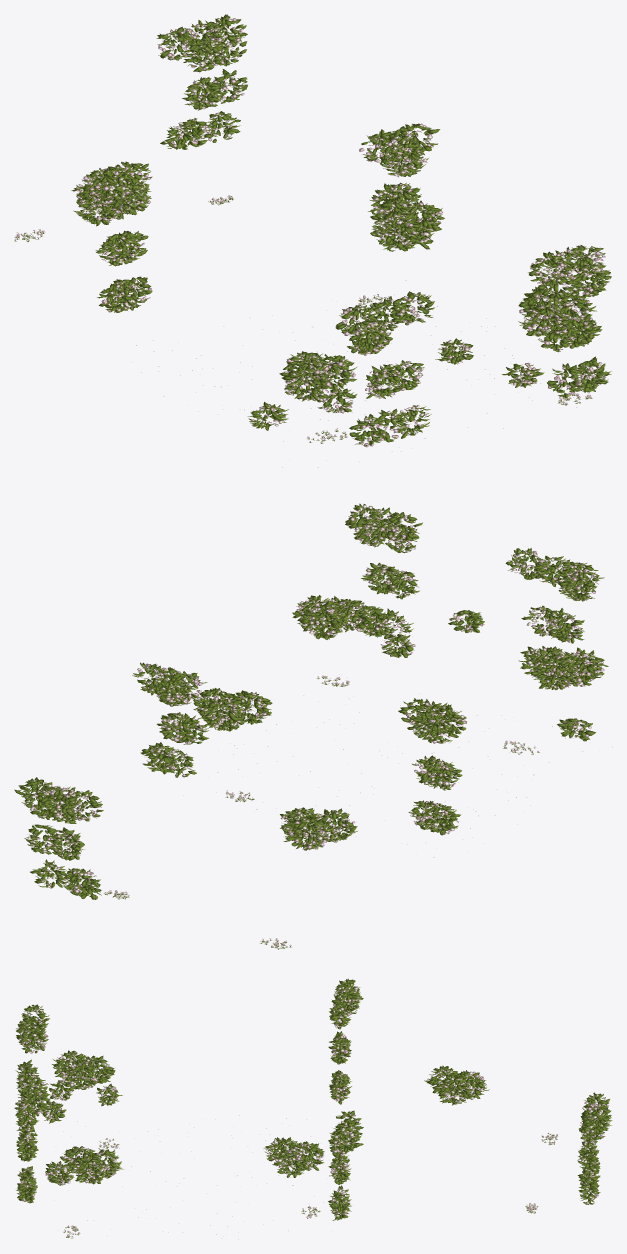
The model's file is R3_LayeredVegetation.fbx.
3 renders of one model, top to bottom at view 1: azimuth 30°, elevation 25°; view 2: azimuth 150°, elevation 25°; view 3: azimuth 270°, elevation 25°, orthographic. The views are drawn at different scales.
Parts seen in each view (by area): view 1: R3_LayeredVegetation; view 2: R3_LayeredVegetation; view 3: R3_LayeredVegetation.
Part boxes in pixels (x1,y1,x2,y2): R3_LayeredVegetation: (14,14,611,467); R3_LayeredVegetation: (14,503,612,949); R3_LayeredVegetation: (14,978,612,1239).
Bounding box in the file's own units: 35.14 × 16.57 × 64.98.
